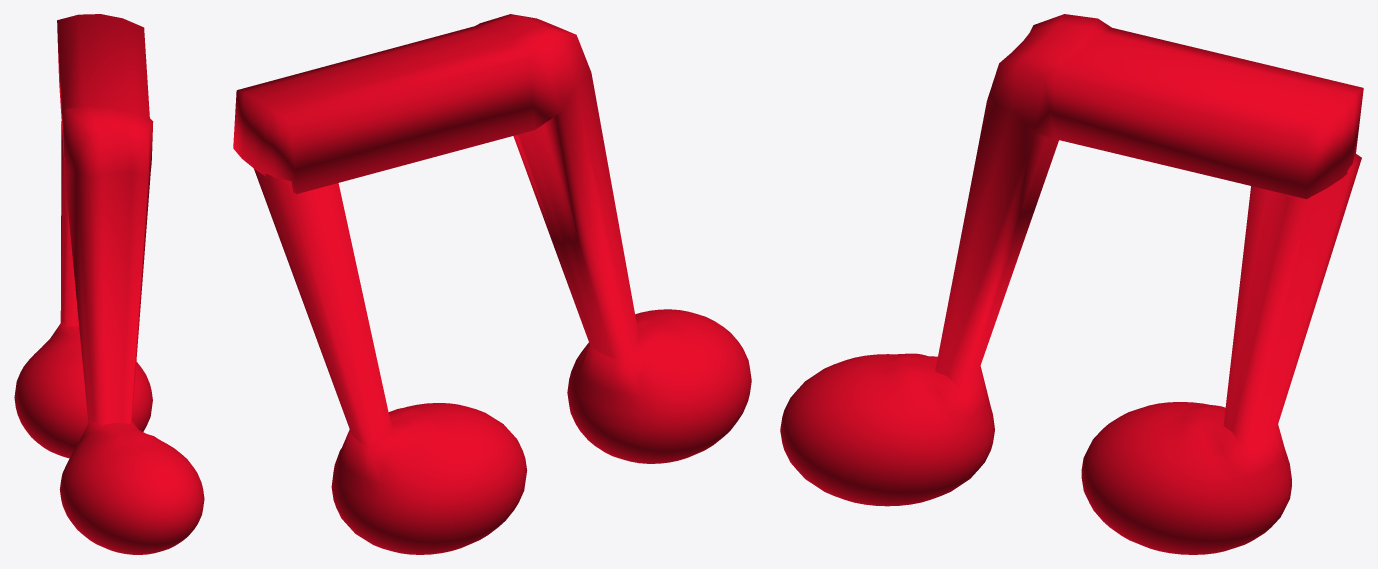
The model's file is doubleKey.gltf.
3 renders of one model, left to right at view 1: azimuth 30°, elevation 25°; view 2: azimuth 150°, elevation 25°; view 3: azimuth 270°, elevation 25°, orthographic. The views are drawn at different scales.
Parts seen in each view (by area): view 1: doubleKey; view 2: doubleKey; view 3: doubleKey.
Part boxes in pixels (<box>): doubleKey: <box>14,14,204,554</box>; doubleKey: <box>233,14,751,554</box>; doubleKey: <box>780,14,1363,554</box>.
Bounding box in the file's own units: 3.28 × 5.1 × 5.43.
